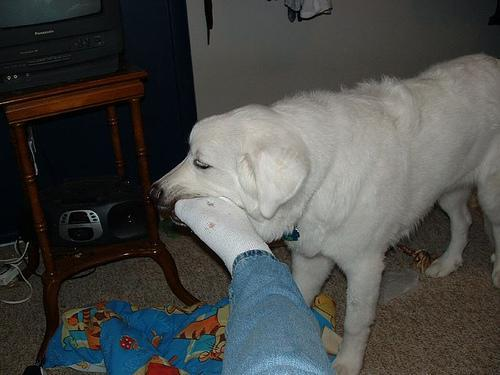Great_Pyrenees: (150, 49, 499, 374)
